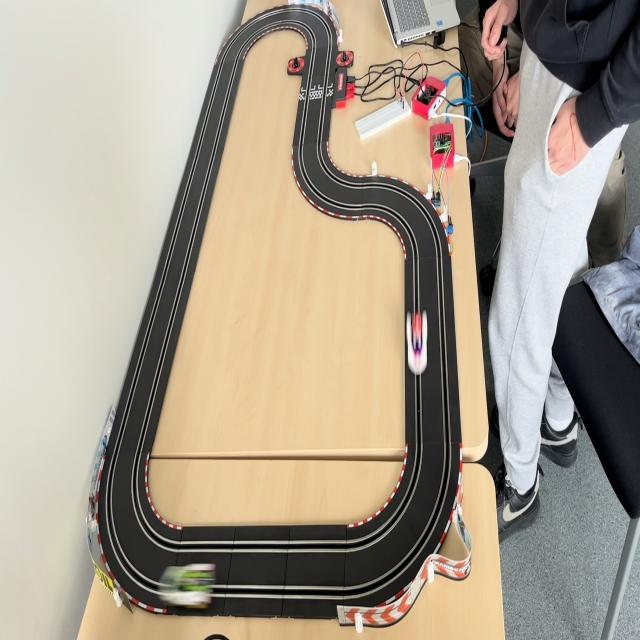mario: (406, 308, 429, 378)
yoshi: (154, 560, 220, 608)
